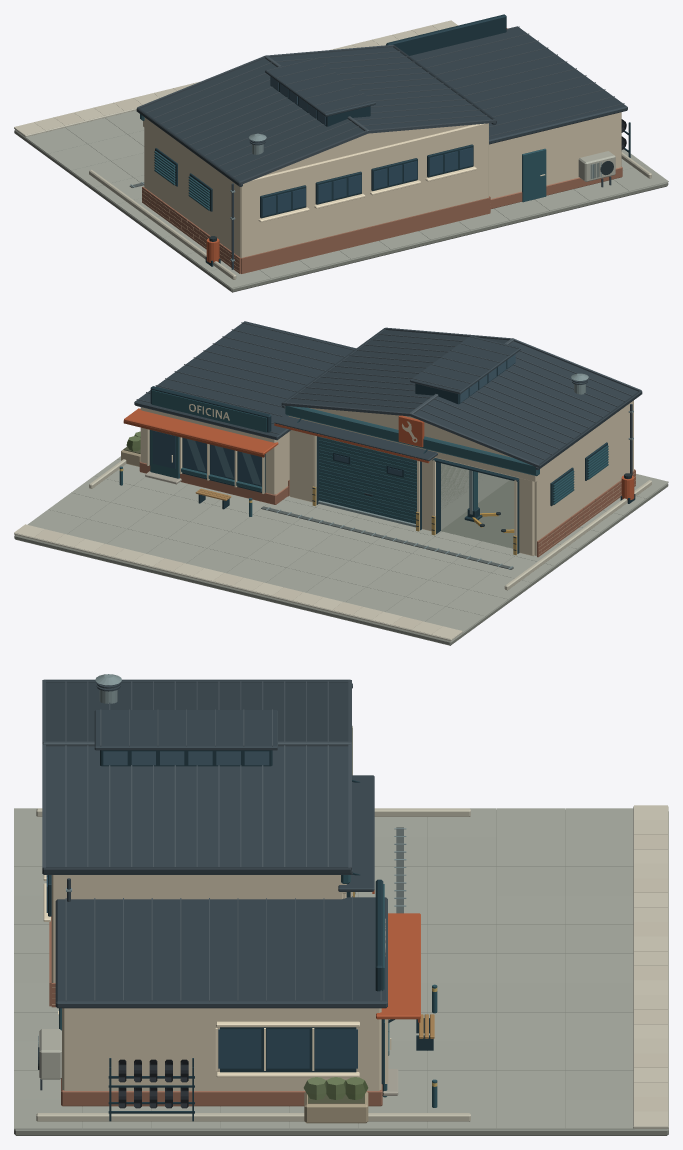
Rendered from commercial.mechanic_shop.a.glb.
The picture shows the model from 3 angles, top to bottom: view 1: azimuth 30°, elevation 25°; view 2: azimuth 150°, elevation 25°; view 3: azimuth 270°, elevation 25°; orthographic projection. The views are drawn at different scales.
Parts seen in each view (by area): view 1: Building, Site, ArchitecturalDetails, SignHousing, YardProps; view 2: Building, Site, Gate, WorkshopFurnishings, SignHousing, ArchitecturalDetails, YardProps, WrenchEmblem; view 3: Building, Site, YardProps, ArchitecturalDetails, SignHousing.
Part boxes in pixels (box(x1,y1,x2,y2)): Building: box(136, 26, 627, 273); Site: box(14, 20, 668, 292); ArchitecturalDetails: box(154, 144, 615, 222); SignHousing: box(386, 14, 506, 55); YardProps: box(205, 119, 630, 266); Building: box(123, 321, 642, 557); Site: box(14, 456, 668, 645); Gate: box(318, 436, 416, 527); WorkshopFurnishings: box(441, 463, 514, 548); SignHousing: box(150, 386, 271, 432); ArchitecturalDetails: box(297, 418, 608, 555); YardProps: box(119, 431, 635, 516); WrenchEmblem: box(398, 415, 424, 447); Building: box(42, 674, 420, 1106); Site: box(14, 805, 668, 1135); YardProps: box(108, 984, 437, 1123); ArchitecturalDetails: box(38, 780, 360, 1090); SignHousing: box(375, 879, 384, 991).
Size of the model in its own units: 21.99 by 6.26 by 18.98.
Materials: 5 (4 with a texture image).
